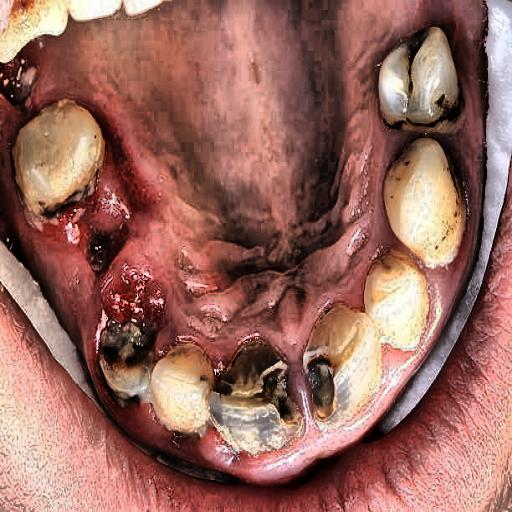Gingivitis: (91, 82, 210, 317)
